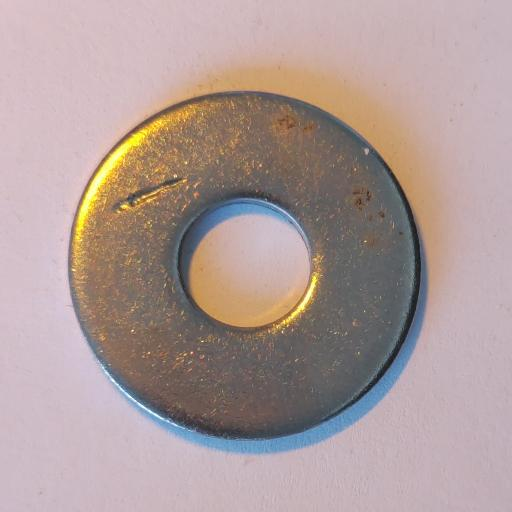scratch: (114, 179, 187, 214)
